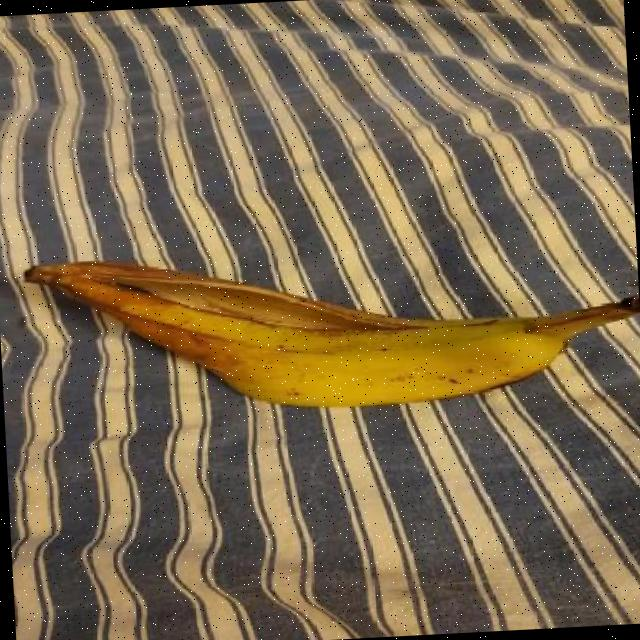banana-peel: (20, 227, 640, 425)
